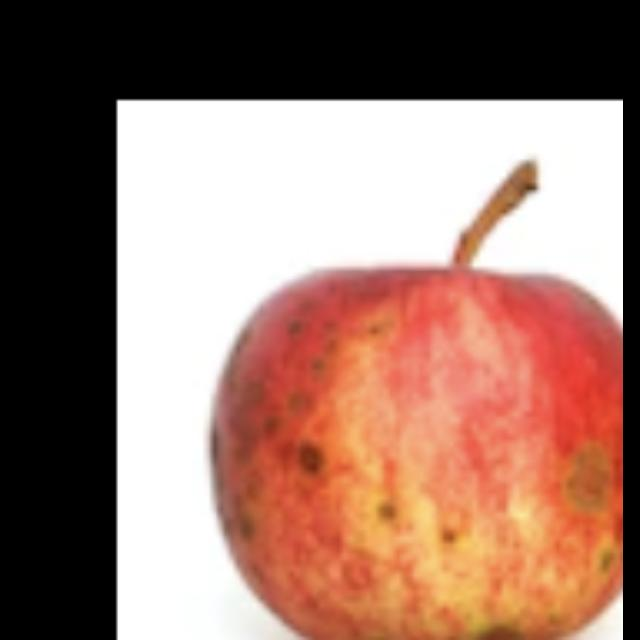Apel Tidak Segar: (208, 258, 624, 640)
